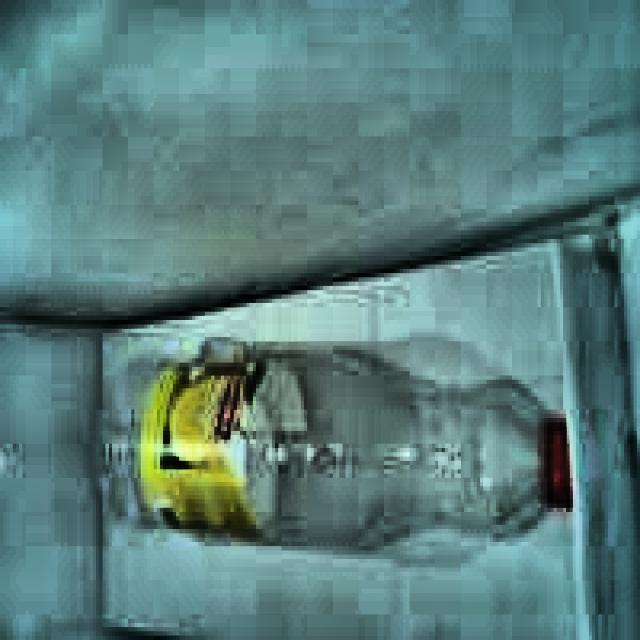Bottles: (50, 314, 638, 558)
